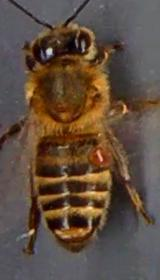varroa_mite: (80, 136, 120, 172)
